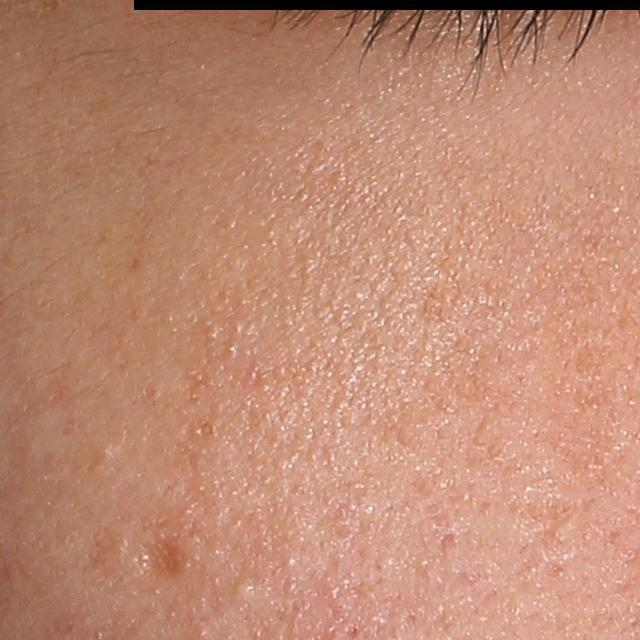comedo: (228, 574, 258, 605)
other: (132, 530, 191, 585)
